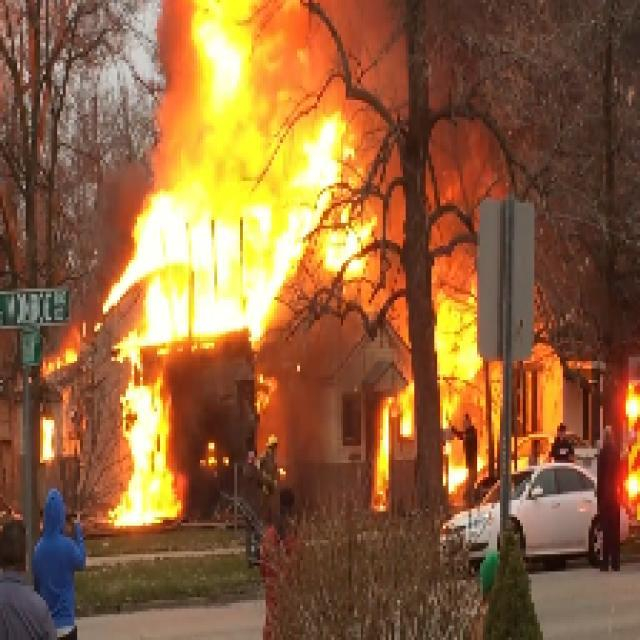Fire: (158, 4, 343, 322), (122, 376, 178, 525), (420, 302, 486, 394)
